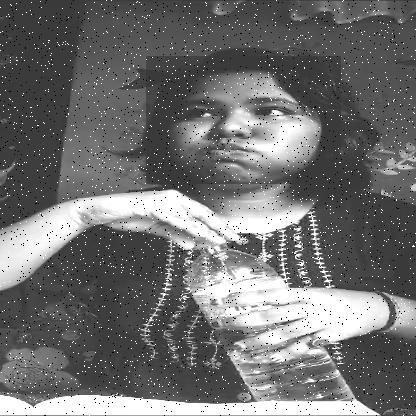Normal: (146, 57, 341, 184)
